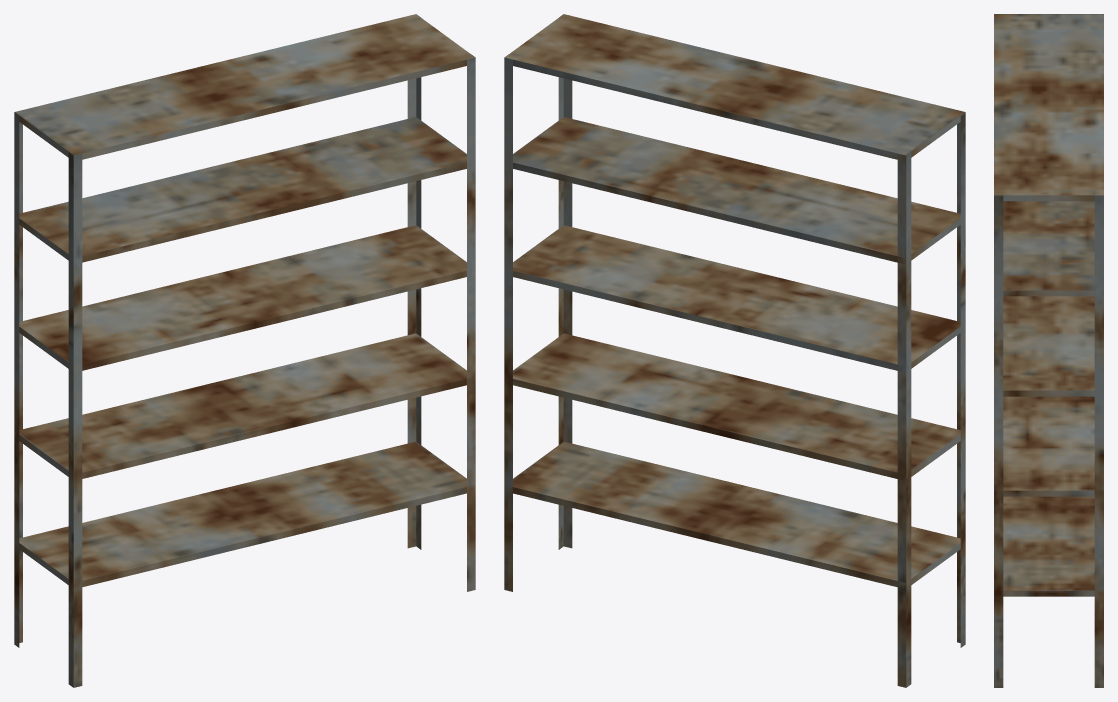
The model's file is stelazh.fbx.
3 views of the same model, side by side, from view 1: azimuth 30°, elevation 25°; view 2: azimuth 150°, elevation 25°; view 3: azimuth 270°, elevation 25° (orthographic). The views are drawn at different scales.
Visible parts, largest first — view 1: shelf; view 2: shelf; view 3: shelf.
Part boxes in pixels (x1,y1,x2,y2): shelf: (14,14,475,687); shelf: (504,14,965,687); shelf: (994,14,1103,687).
Bounding box in the file's own units: 177 × 224 × 45.22.
Materials: 1 (1 with a texture image).
